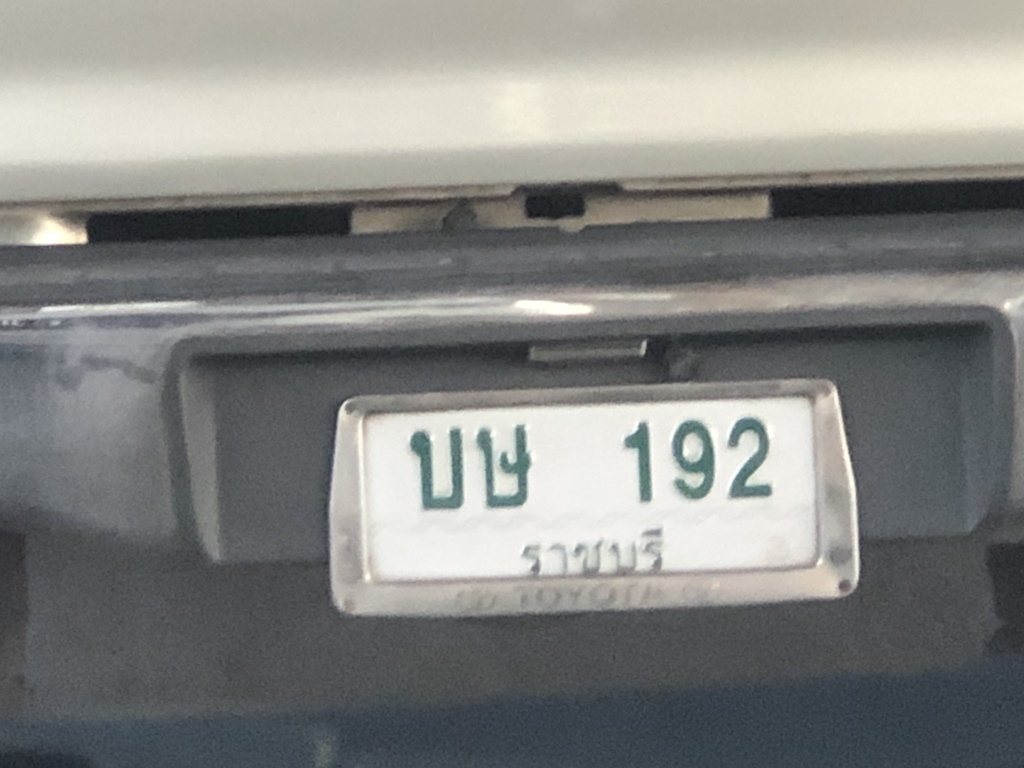nine: (660, 410, 728, 514)
one: (609, 413, 666, 511)
two: (723, 412, 777, 505)
